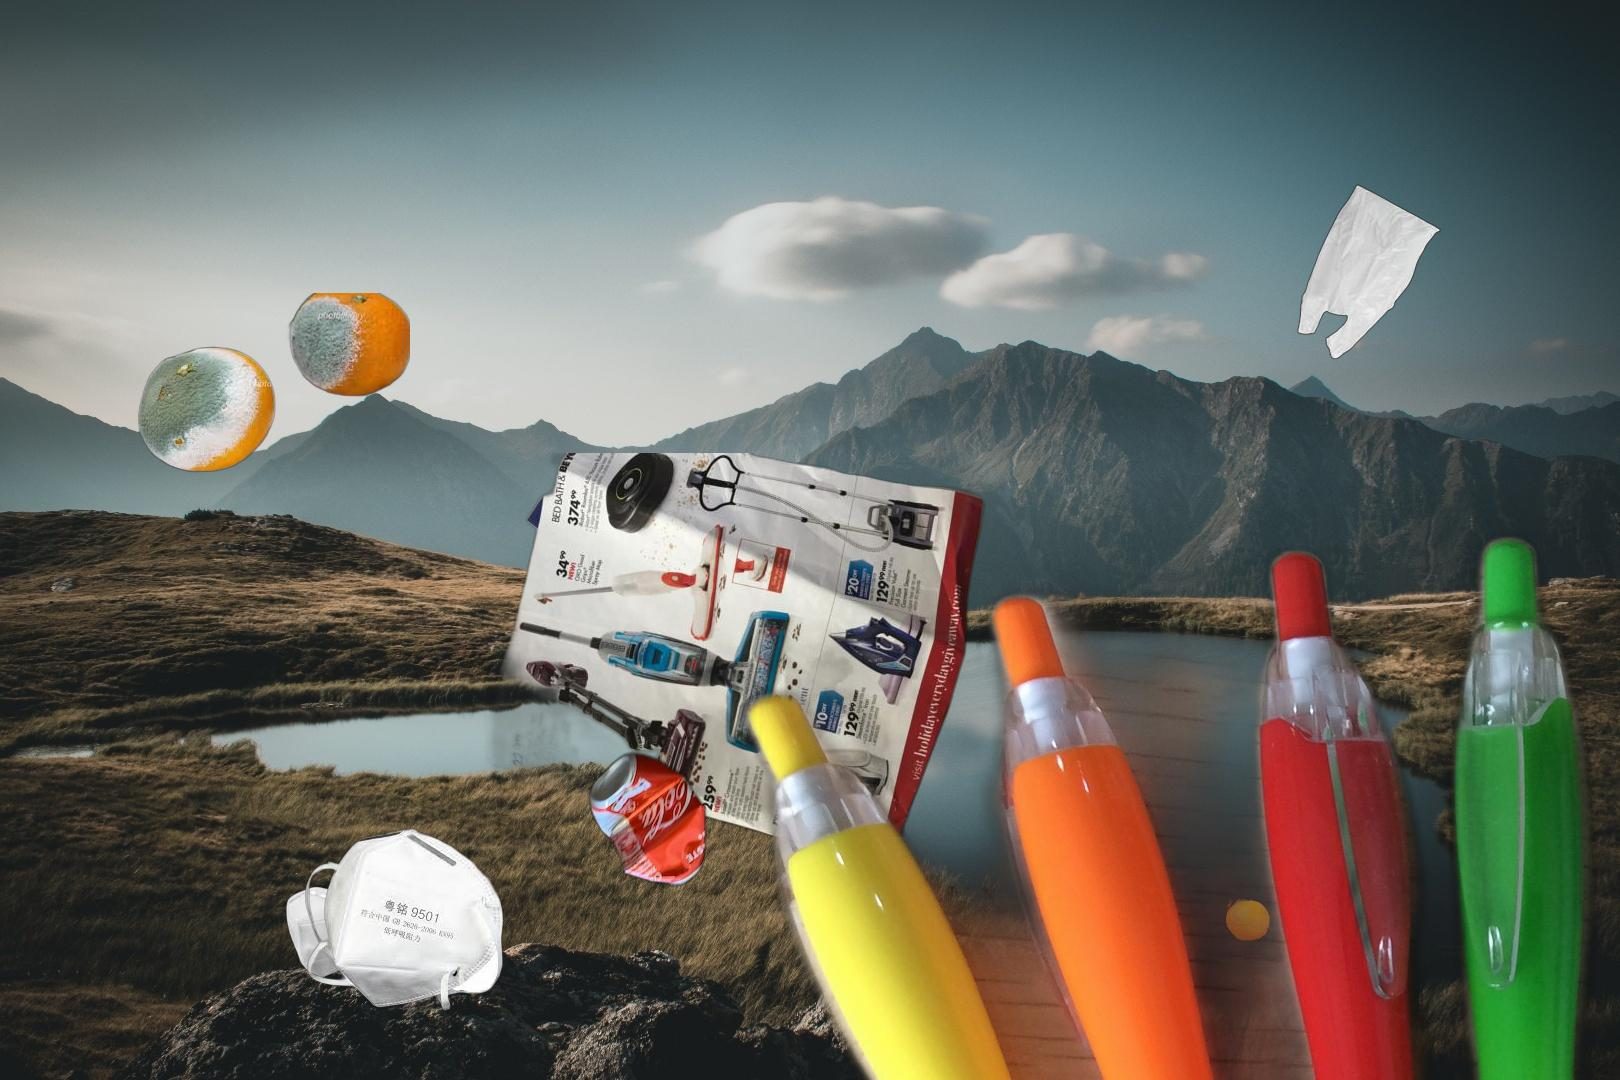biological: (135, 293, 410, 475), (1075, 890, 1351, 1011)
metal-cans: (585, 749, 710, 891)
paper: (485, 453, 996, 837)
penholder: (727, 425, 1620, 1080)
plastic-bag: (1295, 182, 1443, 362)
trash: (303, 826, 506, 1012), (283, 884, 399, 980)
